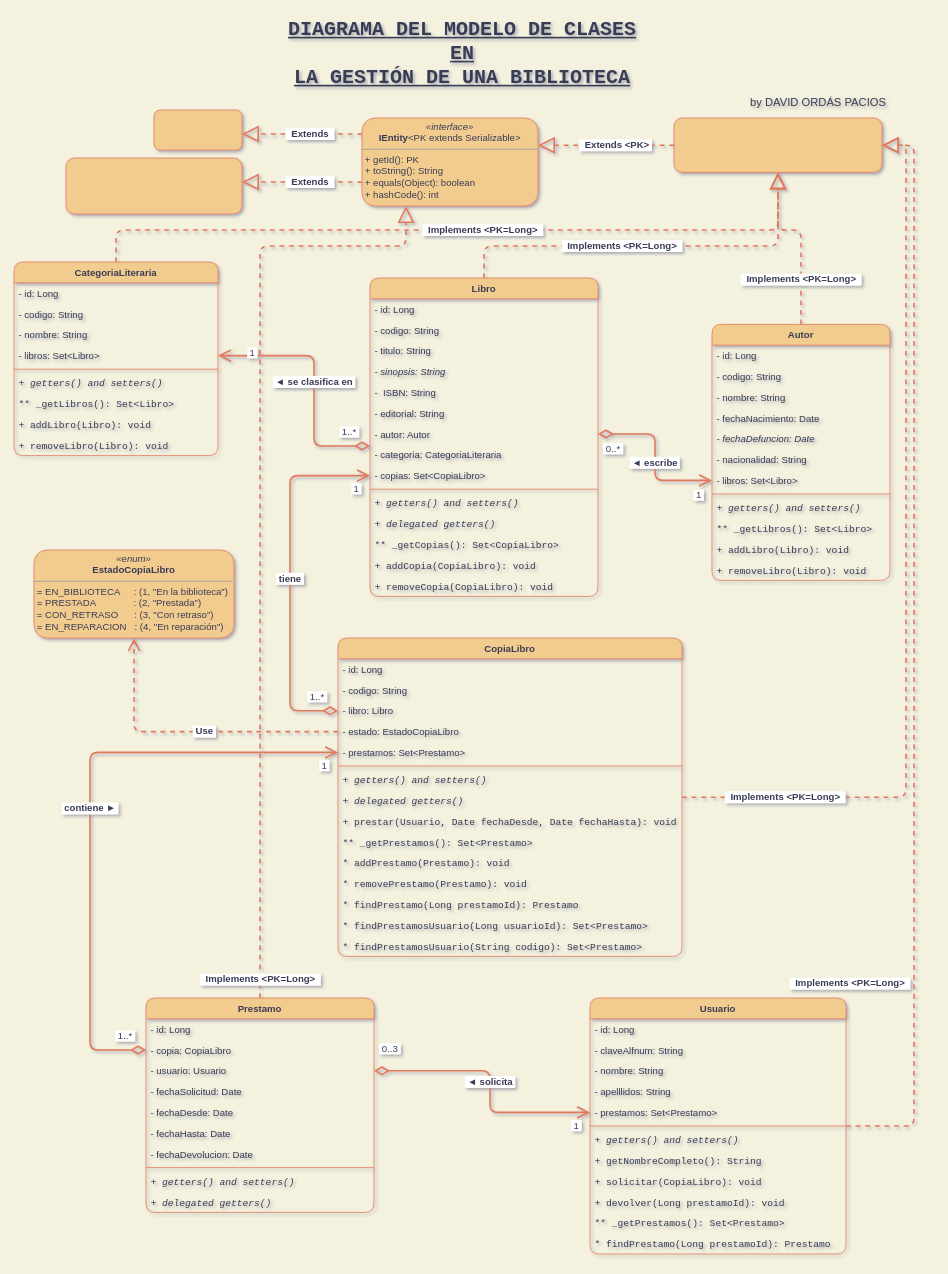
The diagram is 948 pixels wide and 1274 high, and some of its shapes have lost their labels. The shapes that lost their labels are listed below. From the top down, each one's centre as x and y in pixels, then its label:
At (197,129): "«interface» Serializable".
At (777,144): "«interface» ICodeableEntity <PK extends Serializable> + getCodigo(): String".
At (153,185): "«interface» Comparable <IEntity> + compareTo(IEntity): int".
